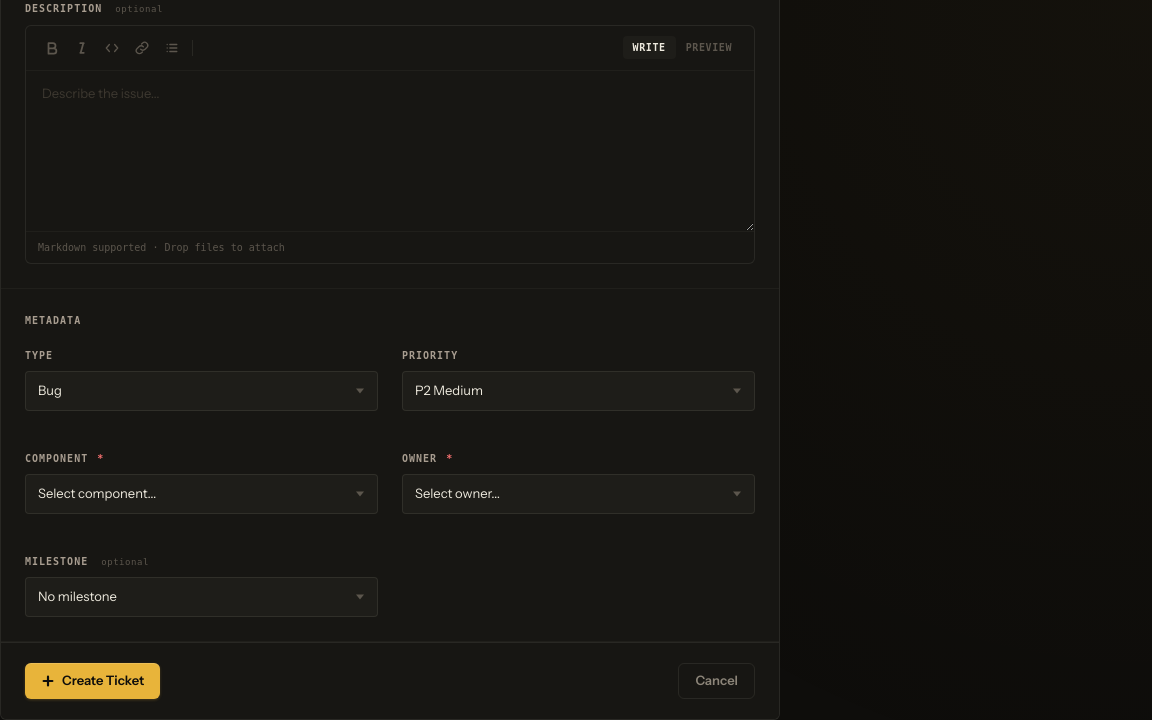
Scenario: CreateTicketPage › clears title error when typing
(page scrolled)
Click the button "Create Ticket".
click(93, 681)  # box [25, 663, 160, 699]
(page scrolled)
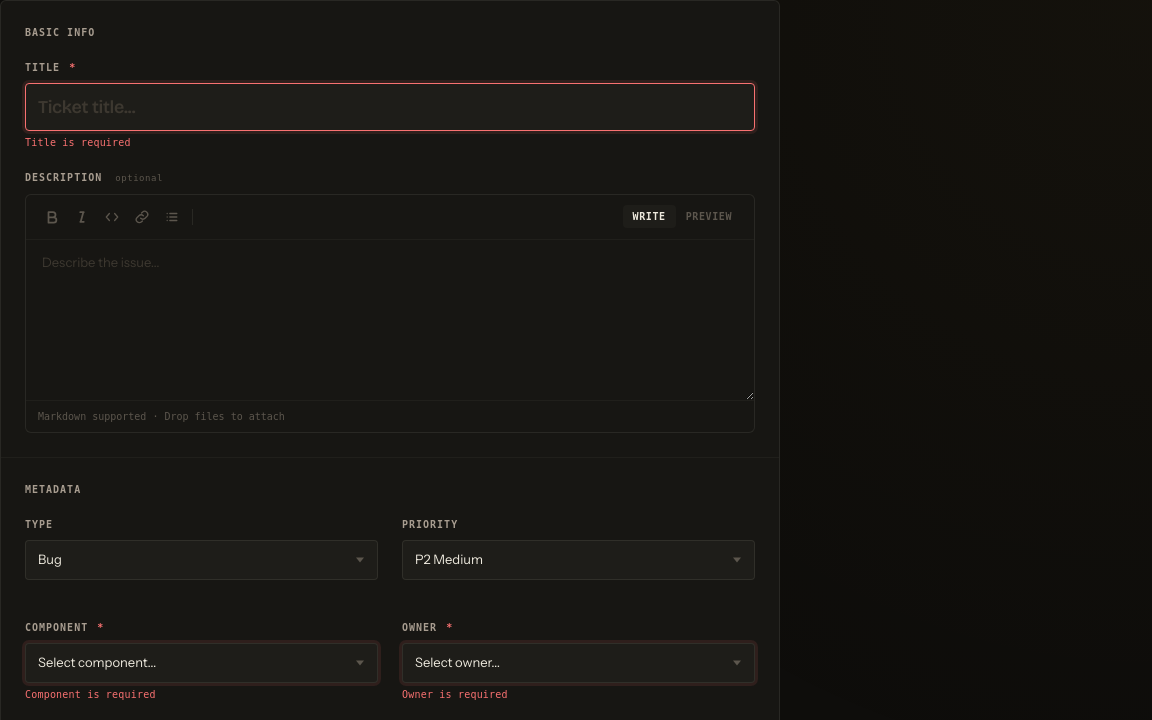
Expected: the text "Title is required" is shown, [25, 137, 131, 148]
Type "Fix bug" into the field labelled "Title *".
click(390, 107); type("Fix bug")  # box [25, 83, 755, 131]
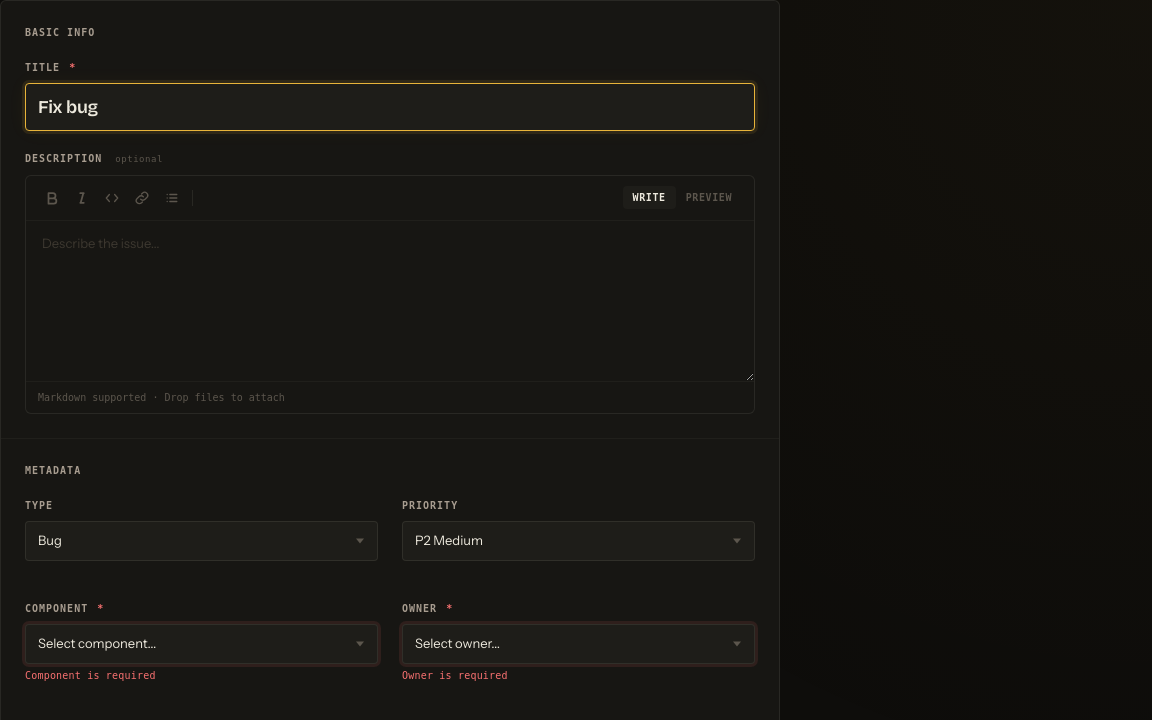
Expected: the text "Title is required" is gone
